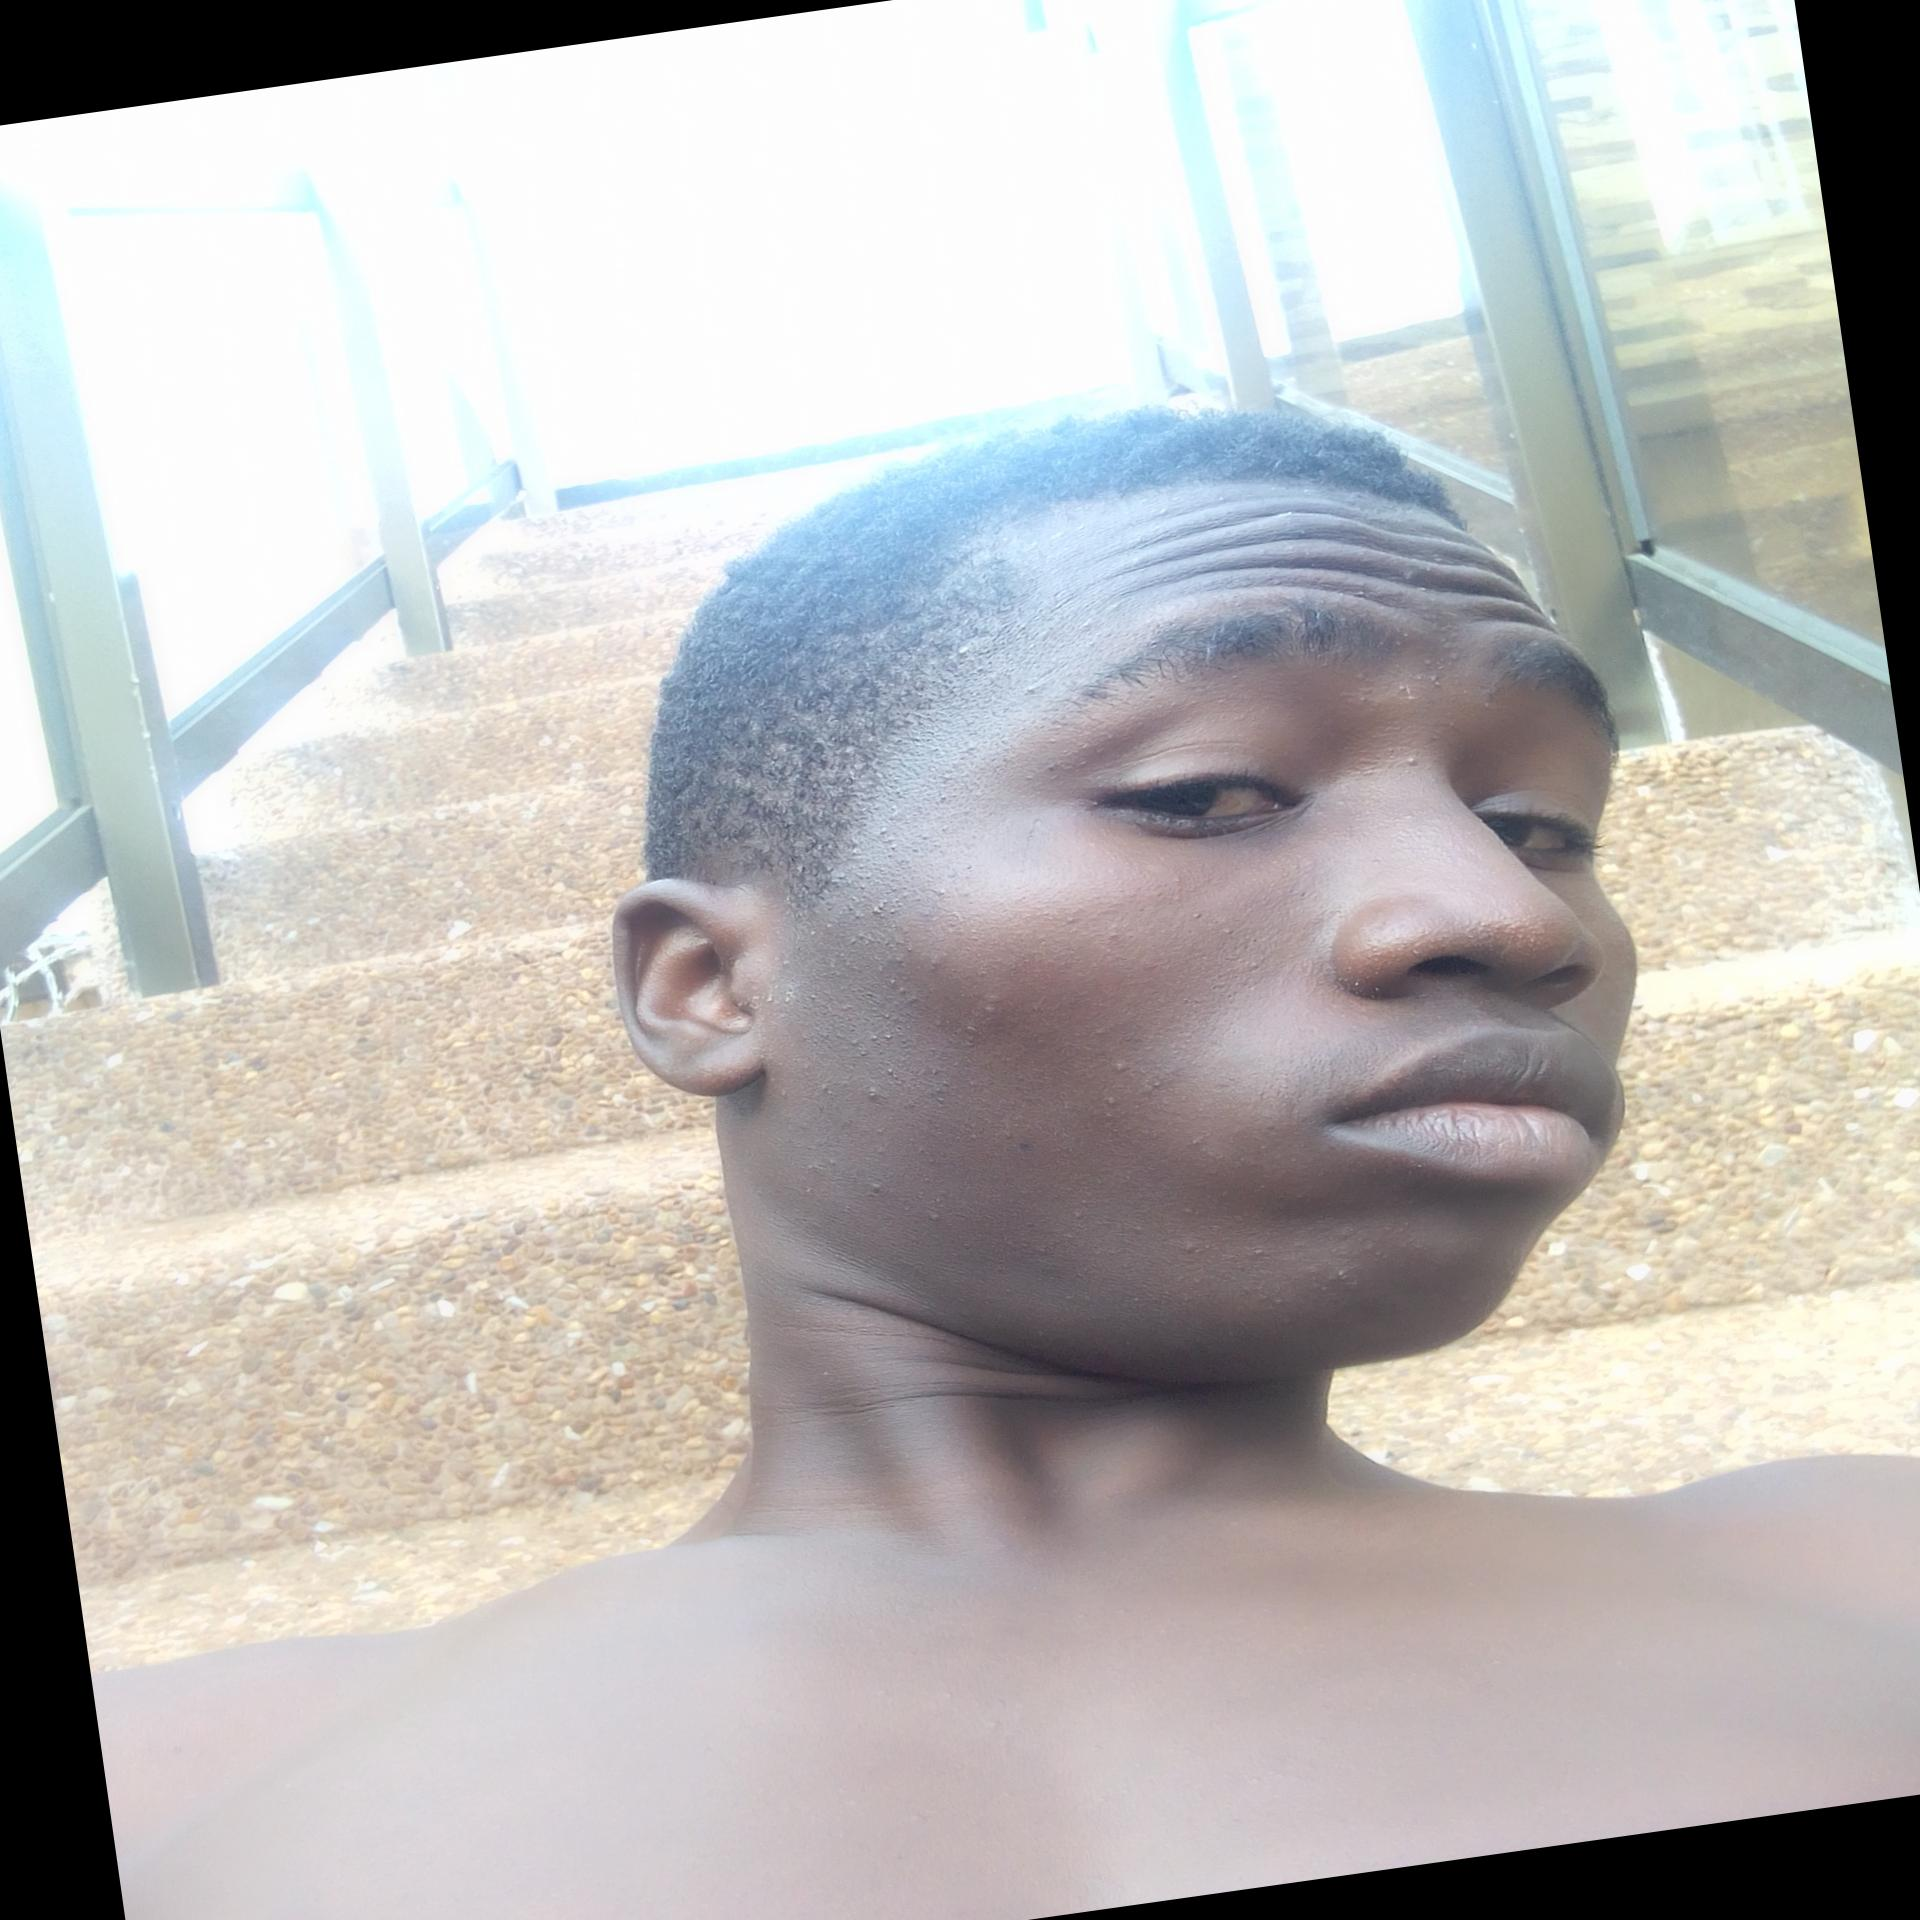Acne: (823, 828, 944, 955), (876, 726, 1002, 835), (828, 955, 928, 1090), (1373, 629, 1470, 705)
Wrinkles: (1097, 459, 1549, 686)
